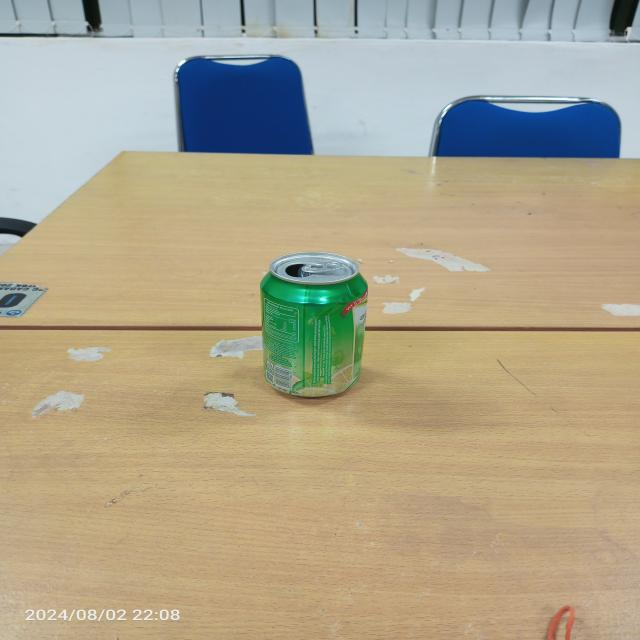ademsarikaleng: (258, 251, 369, 398)
